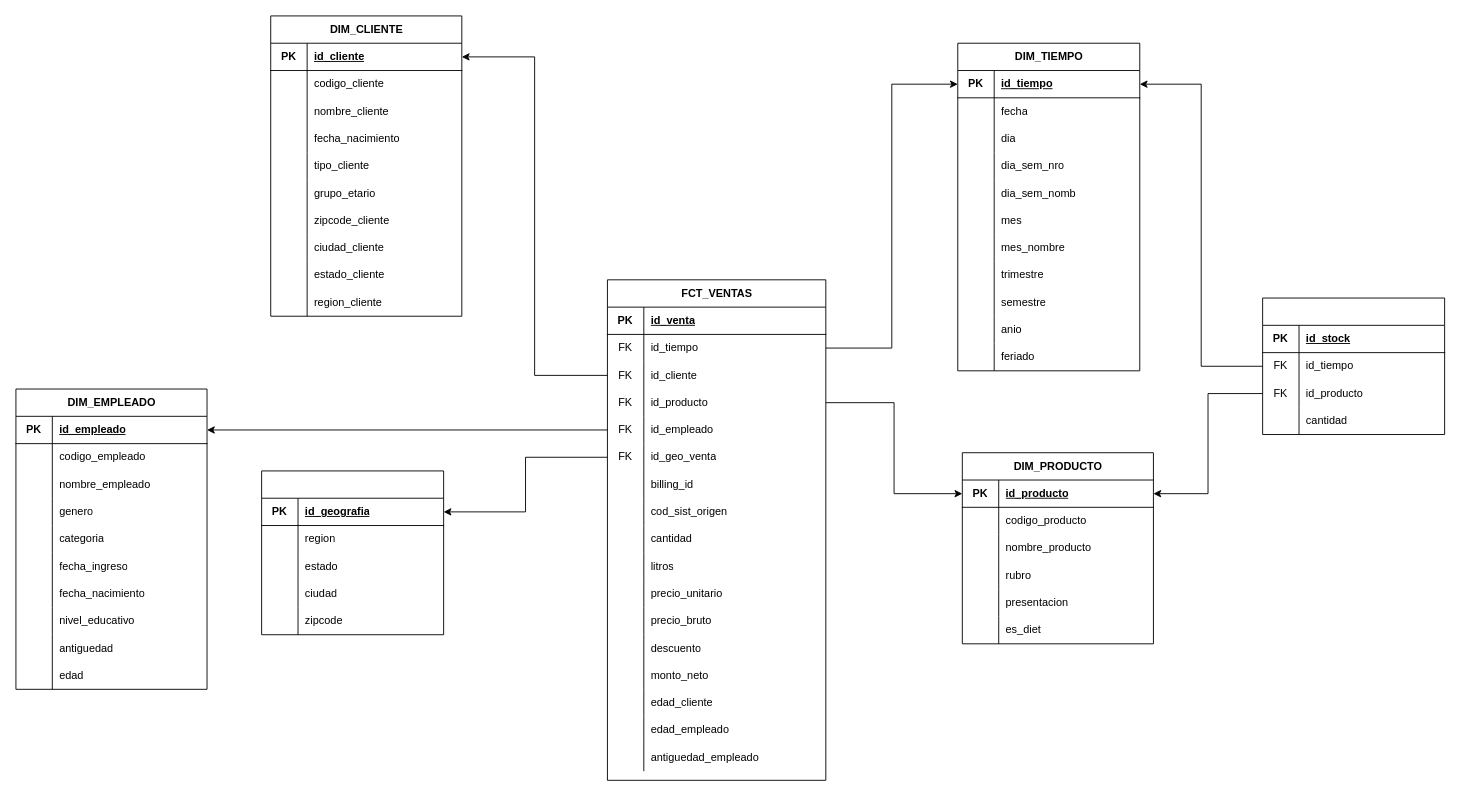
Image size: 1461x796. Some labels were removed from this diagram. The shapes that lost their labels are listed below. From the top down, each one's box as (x1, y1, x2, y2) in pixels, then its label:
(1262, 297, 1445, 435): FCT_STOCK
(261, 470, 444, 635): DIM_GEOGRAFIA
